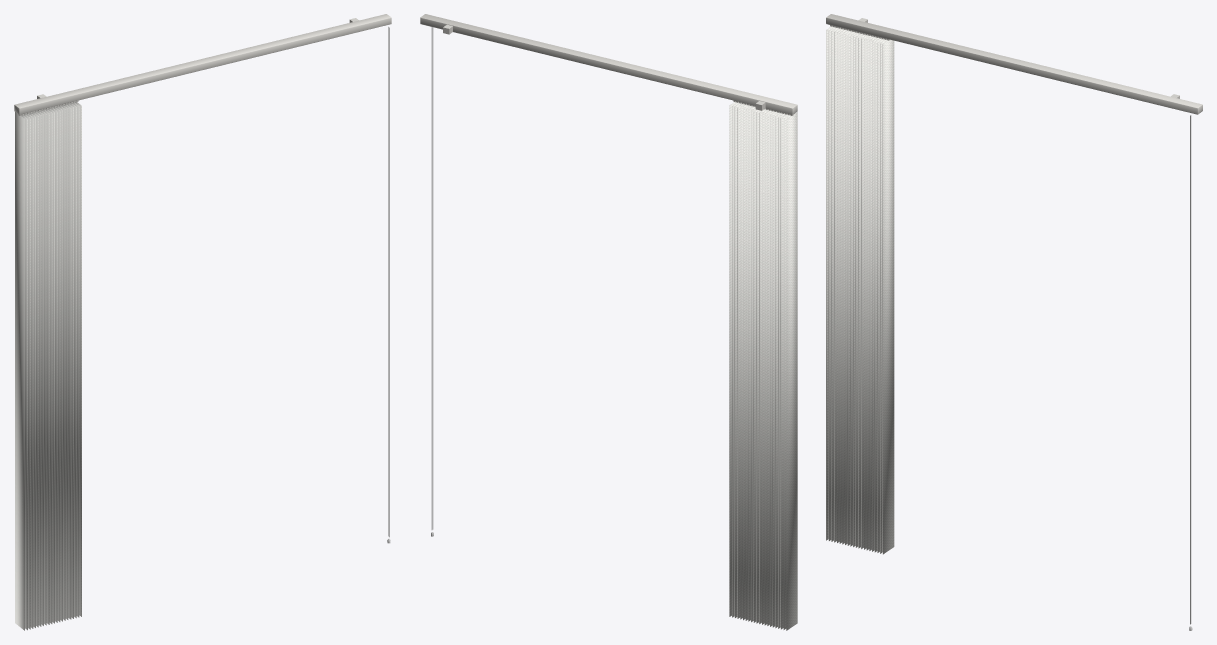
File: cortina_vertical_180_c0.glb
3 views of the same model, side by side, from view 1: azimuth 30°, elevation 25°; view 2: azimuth 150°, elevation 25°; view 3: azimuth 330°, elevation 25° (orthographic).
Visible parts, largest first — view 1: cortina_vertical_180_c0; view 2: cortina_vertical_180_c0; view 3: cortina_vertical_180_c0.
Part boxes in pixels (x1,y1,x2,y2): cortina_vertical_180_c0: [14, 14, 391, 630]; cortina_vertical_180_c0: [420, 14, 797, 630]; cortina_vertical_180_c0: [826, 14, 1202, 630].
Size of the model in its own units: 1.79 by 2.4 by 0.0996.
Materials: 3 (1 with a texture image).
